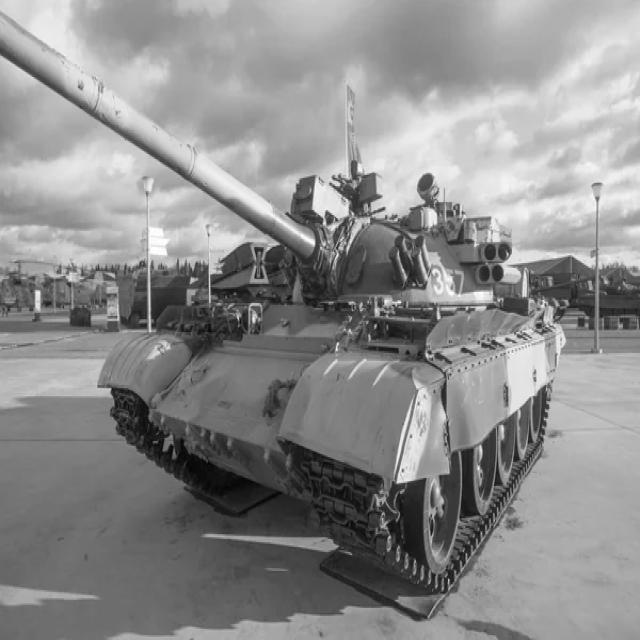Tank: (1, 12, 564, 610)
